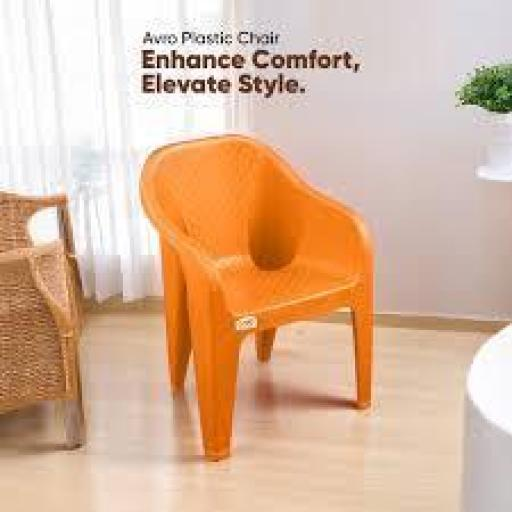chair: (135, 124, 379, 463)
